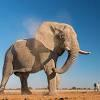elephant: (0, 21, 90, 94)
